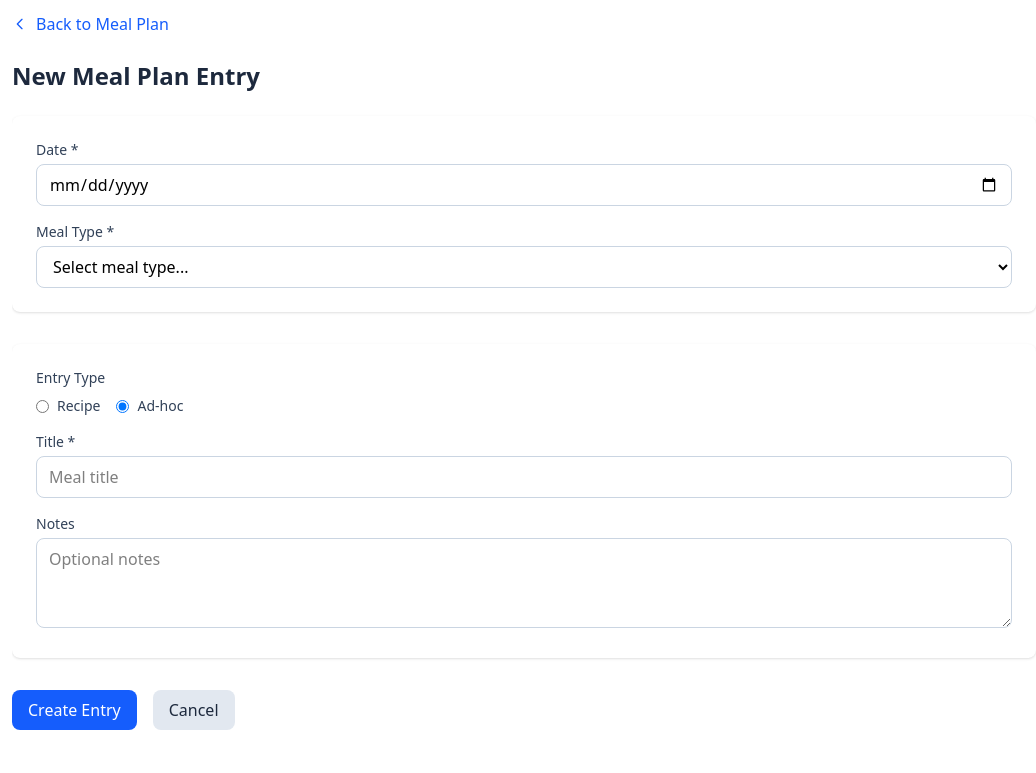
it: MealPlanEntryForm › Create mode › clears recipeId when switching from recipe to ad-hoc mode
Click the radio button labelled "Recipe". click: (42, 406)
box: [36, 400, 49, 412]
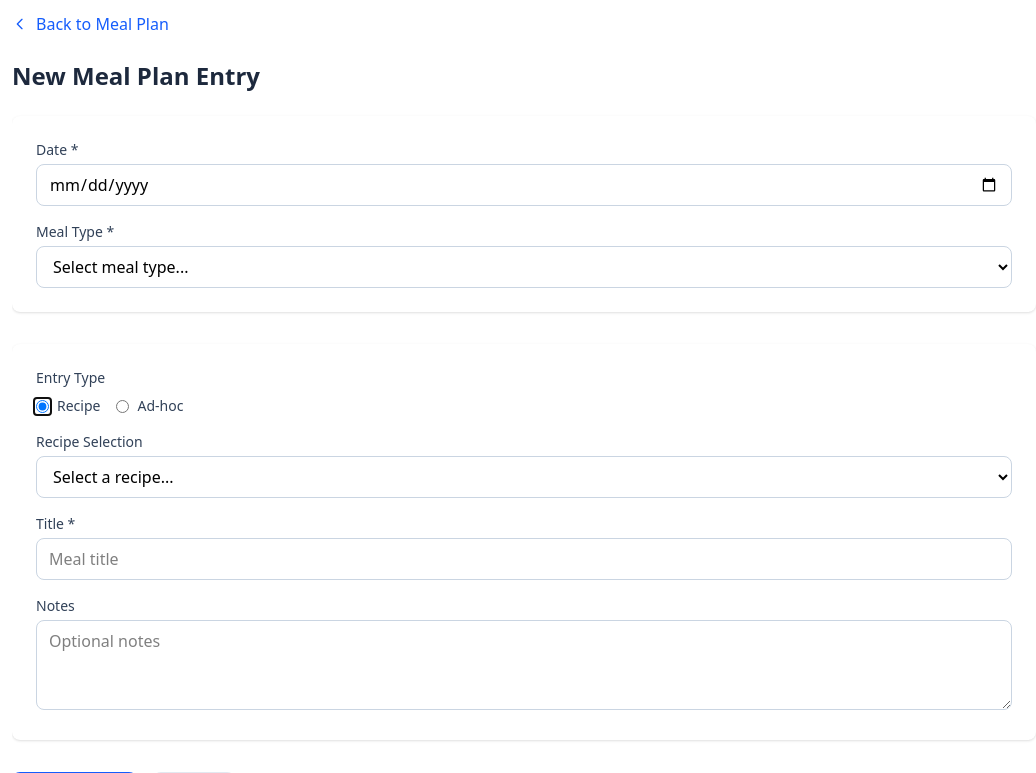
Select "Chicken Parmesan" in the dropdown labelled "Recipe Selection". click: (524, 477)
box: [36, 456, 1012, 498]
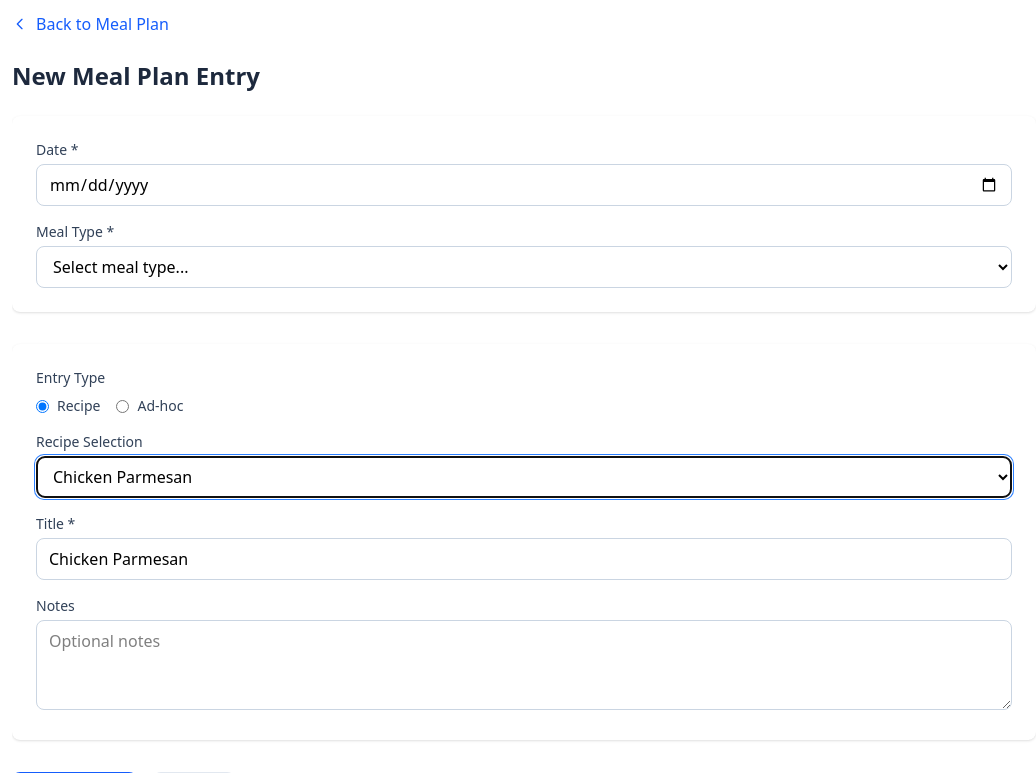
Click the radio button labelled "Ad-hoc". click: (123, 406)
box: [116, 400, 130, 412]
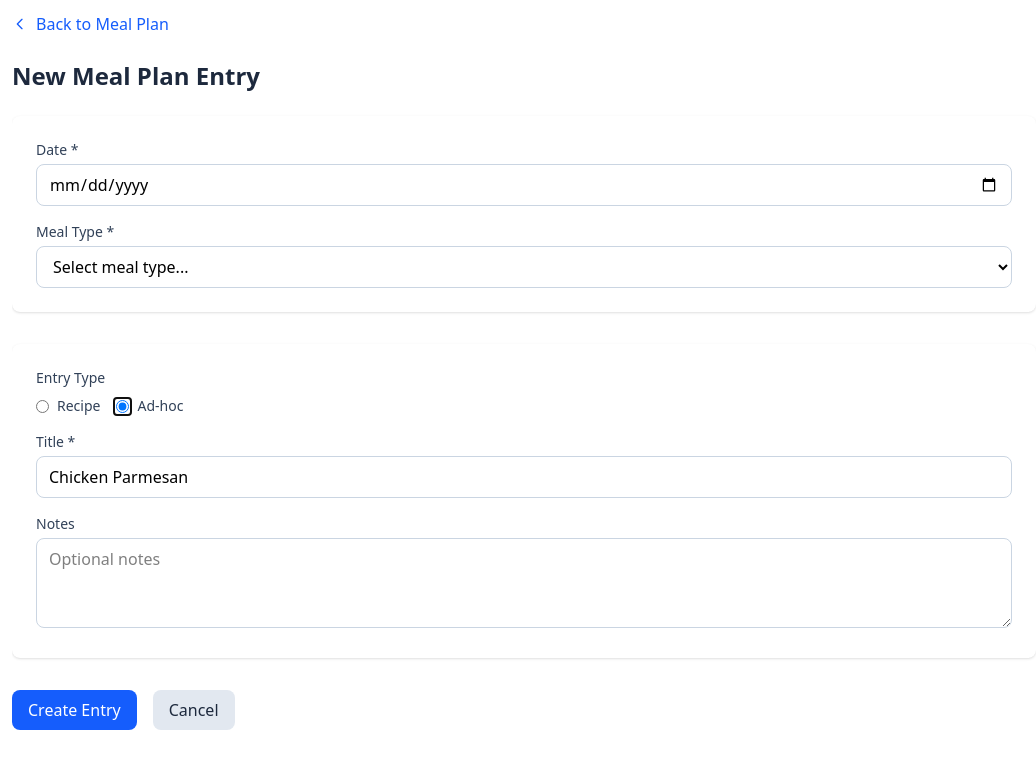
Now the label labelled "Recipe Selection" is gone
